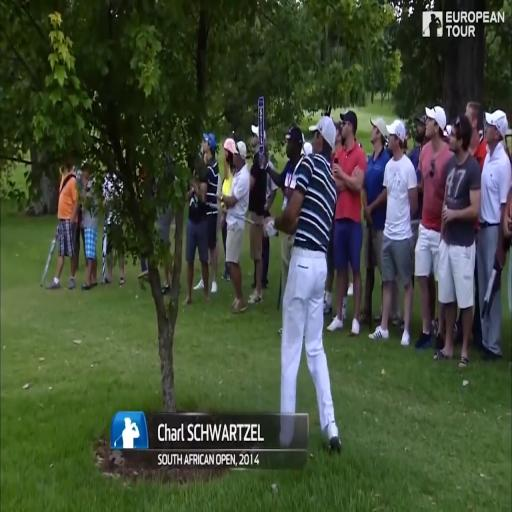nao-violencia: (409, 96, 482, 360), (358, 105, 420, 349), (461, 80, 512, 366), (214, 126, 251, 317)
